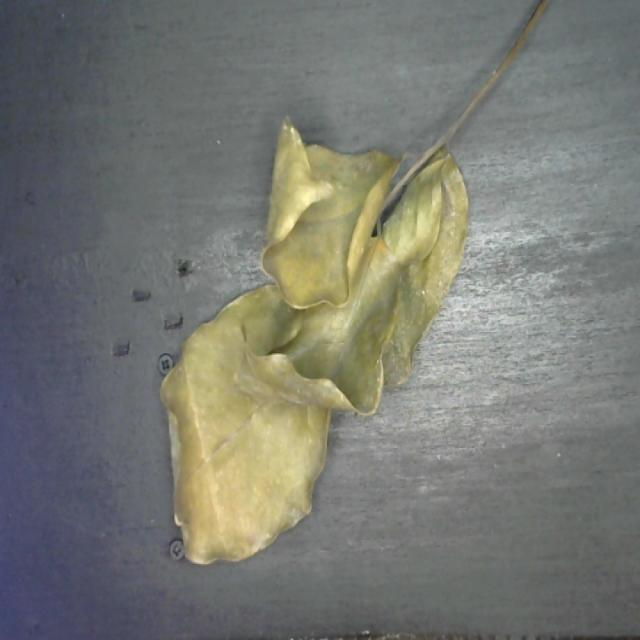biodegradable: (157, 111, 476, 558)
